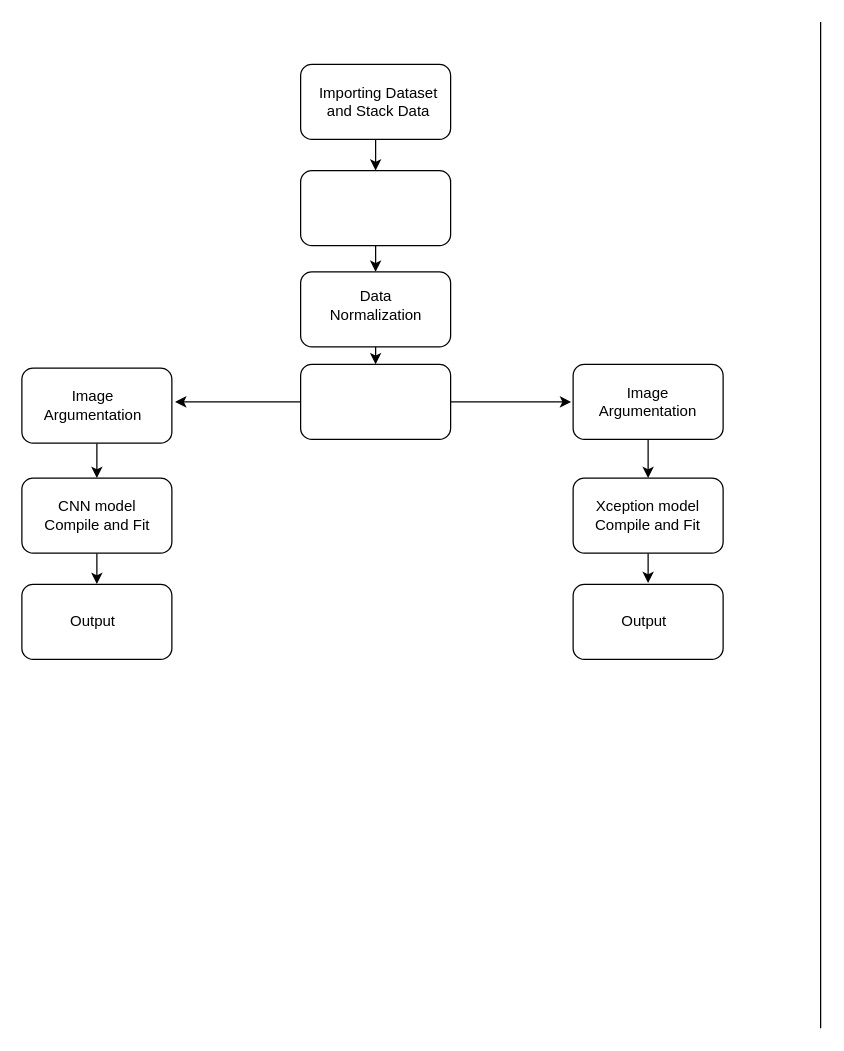
Some shapes in this 844 by 1051 pixel diagram are drawn without their labels. Here are the shapes that lost their labels. From the top down, the centre of each, then its label:
At (375,207): "Flatten Image Array".
At (375,401): "Feature Extraction".
